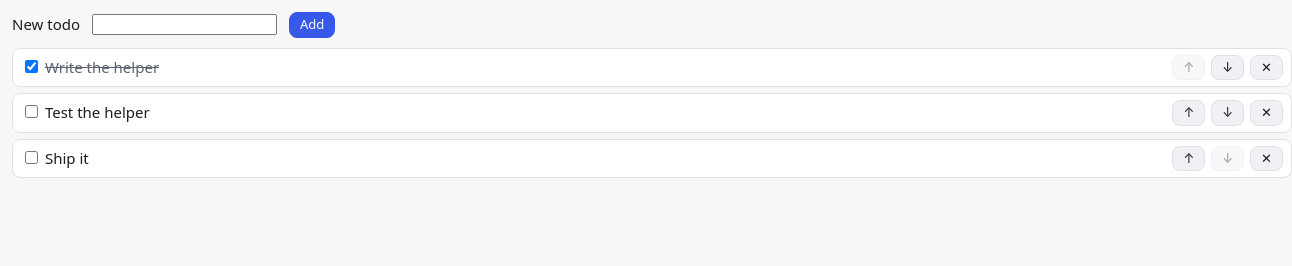
Test case: immutable-state demos › reorders, adds and removes todos
This screenshot has width=1292, height=266.
Click the button named "Move “Ship it” up". click: (1189, 159)
box: 1172,146 -> 1205,171
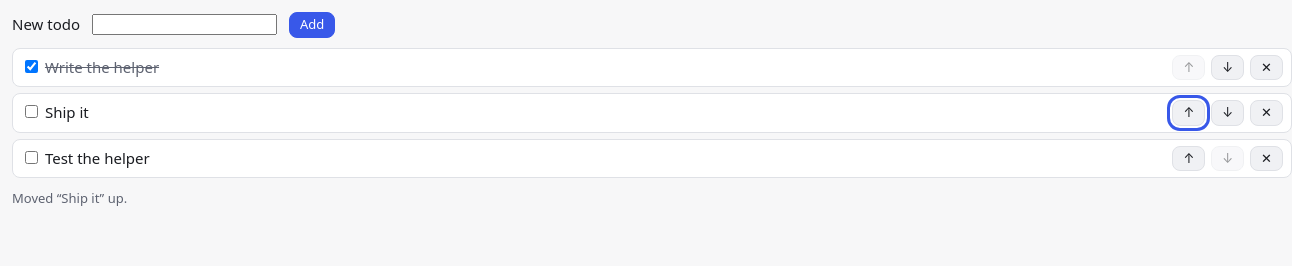
Click the button named "Move “Write the helper” up". click: (1189, 67)
box: 1172,55 -> 1205,80
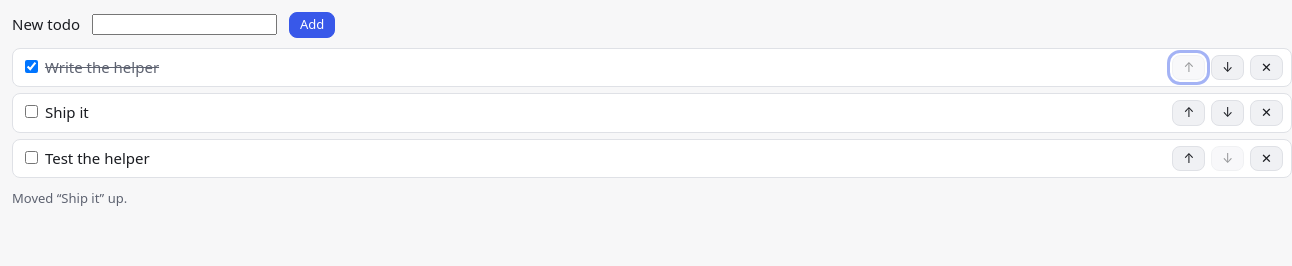
Expected: the text "Write the helper" is shown, 45,57 -> 159,77
Type "Review" into the field labelled "New todo". click: (184, 25)
box: 92,14 -> 277,35
Then press Enter
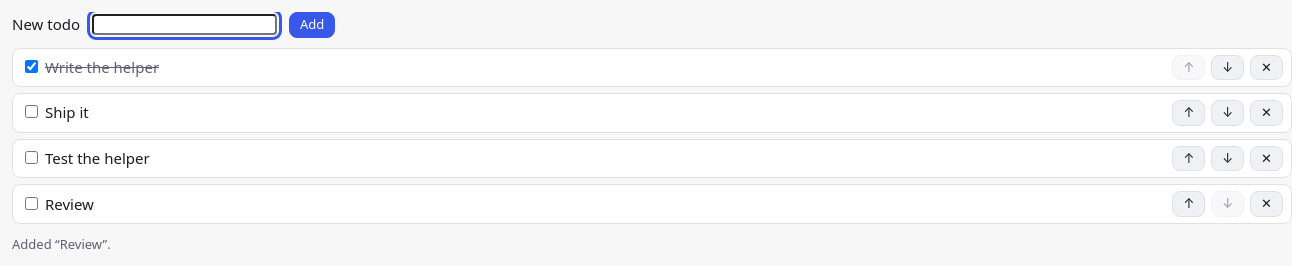
Click the button named "Remove “Review”". click: (1267, 204)
box: 1250,191 -> 1283,217
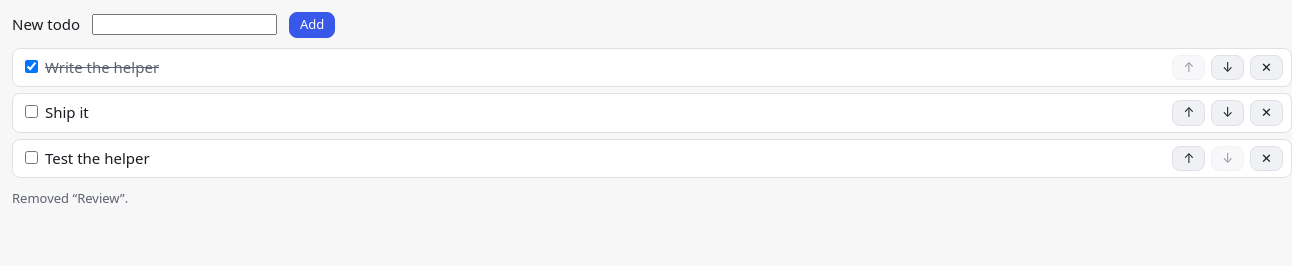
Now the message reads "Removed “Review”.", box 12,189 -> 128,207
